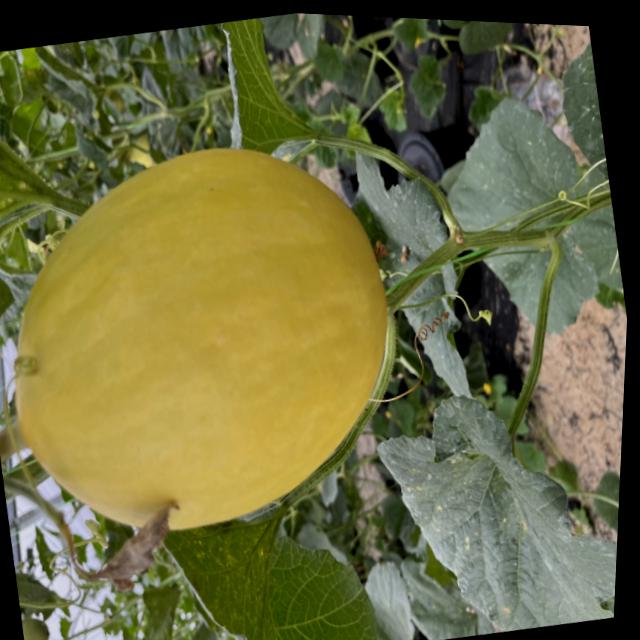downy mildew: (362, 360, 625, 640), (145, 469, 393, 640)
healthy: (203, 9, 326, 170)
